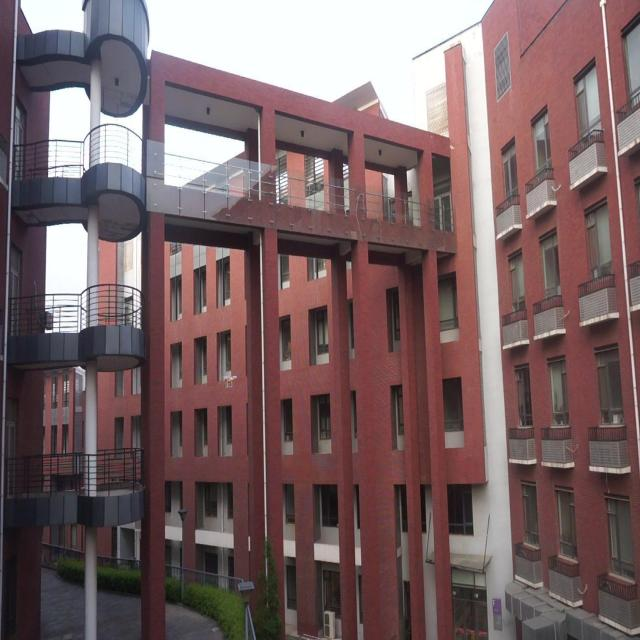UAV: (223, 375, 237, 388)
